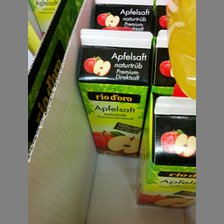juice: (77, 26, 152, 160), (132, 94, 195, 211)
